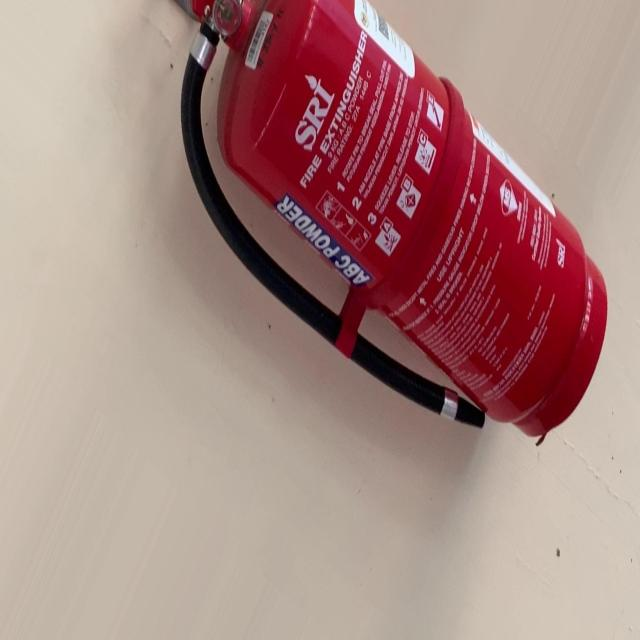fire_extinguisher: (165, 0, 608, 446)
